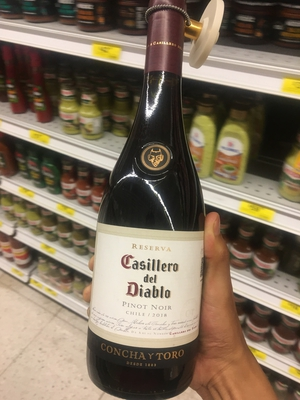casillero del diablo pinot noir: (84, 3, 214, 400)
